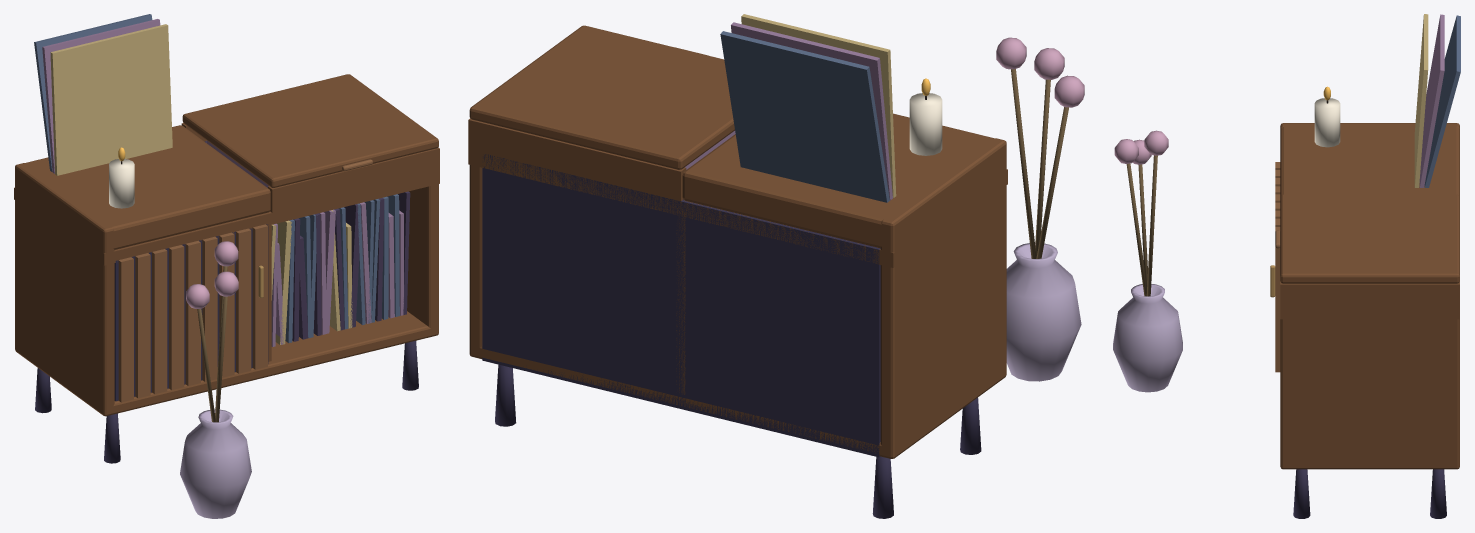
The model's file is recordCabinet.glb.
The picture shows the model from 3 angles, left to right: view 1: azimuth 30°, elevation 25°; view 2: azimuth 150°, elevation 25°; view 3: azimuth 270°, elevation 25°; orthographic projection. The views are drawn at different scales.
Parts seen in each view (by area): view 1: body, lid; view 2: body, lid; view 3: body, lid.
Part boxes in pixels (x1,y1,x2,y2): body: (14, 14, 439, 518); lid: (182, 74, 438, 187); body: (468, 14, 1084, 518); lid: (469, 25, 734, 169); body: (1113, 14, 1460, 518); lid: (1275, 194, 1459, 283).
Size of the model in its own units: 0.9 by 0.925 by 0.8142.
